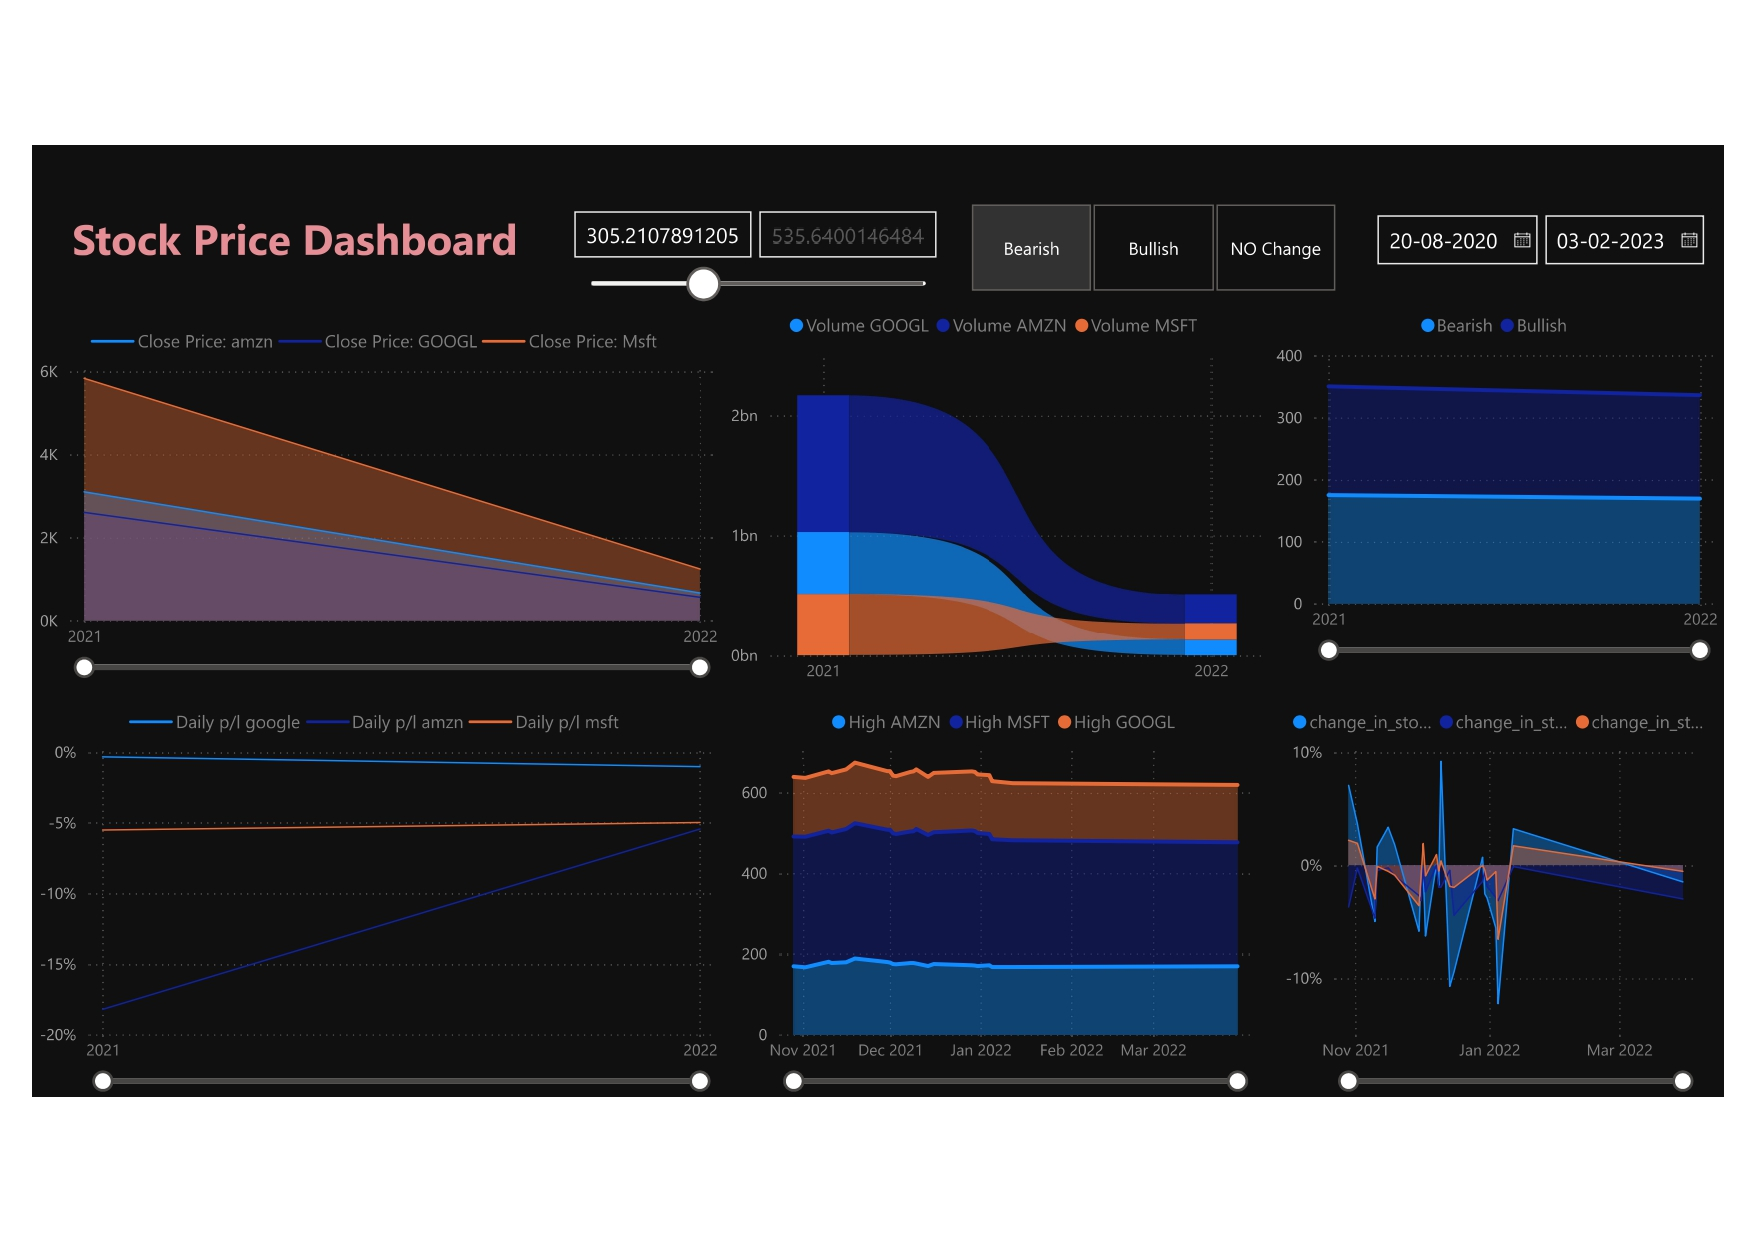

Layout of this report page (visuals, bound fields, positions):
{"tool":"powerbi","page":{"name":"Page 1","canvas":[1280,720],"ordinal":0},"visuals":[{"type":"areaChart","fields":{"Y":["Sum(amzn.Close amzn)","Sum(amzn.Close GOOGL)","Sum(amzn.Close MSFT)"],"Category":["amzn.Date.Variation.Date Hierarchy.Year","amzn.Date.Variation.Date Hierarchy.Month","amzn.Date.Variation.Date Hierarchy.Day"]},"box":[0,127.9,523.3,277.9],"z":0},{"type":"lineChart","fields":{"Y":["Avg(amzn.daily_profit_or_loss_google%)","Sum(amzn.daily_profit_or_loss%)","Sum(amzn.daily_profit_or_loss_msft%)"],"Category":["amzn.Date.Variation.Date Hierarchy.Year","amzn.Date.Variation.Date Hierarchy.Month","amzn.Date.Variation.Date Hierarchy.Day"]},"box":[0,416.3,523.3,302.3],"z":1000},{"type":"ribbonChart","fields":{"Y":["Sum(amzn.Volume GOOGL)","Sum(amzn.Volume AMZN)","Sum(amzn.Volume MSFT)"],"Category":["amzn.Date.Variation.Date Hierarchy.Year","amzn.Date.Variation.Date Hierarchy.Month","amzn.Date.Variation.Date Hierarchy.Day"]},"box":[522.9,115.7,412.9,300],"z":2000},{"type":"stackedAreaChart","fields":{"Category":["amzn.Date"],"Y":["Max(amzn.High AMZN)","Max(amzn.High MSFT)","Max(amzn.High GOOGL)"]},"box":[531.4,416.3,411.6,302.3],"z":3000},{"type":"slicer","fields":{"Values":["amzn.Date"]},"box":[1004.7,43,269.8,72.1],"z":5000},{"type":"slicer","fields":{"Values":["amzn.bullish_bearish1"]},"box":[687.2,39.5,323.3,75.6],"z":6000},{"type":"stackedAreaChart","fields":{"Category":["amzn.Date.Variation.Date Hierarchy.Year","amzn.Date.Variation.Date Hierarchy.Month","amzn.Date.Variation.Date Hierarchy.Day"],"Y":["Avg(amzn.High AMZN)"],"Series":["amzn.bullish_bearish3_msft"]},"box":[935.7,115.7,344.3,277.1],"z":7000},{"type":"areaChart","fields":{"Y":["Sum(amzn.change_in_stock_price_msft)","Sum(amzn.change_in_stock_price)","Sum(amzn.change_in_stock_price_google)"],"Category":["amzn.Date"]},"box":[943,416.3,337.2,302.3],"z":8000},{"type":"slicer","fields":{"Values":["amzn.Close MSFT"]},"box":[396.5,39.5,300,127.9],"z":9000},{"type":"textbox","box":[0,42.9,397.1,60],"z":9001}]}

Visuals, with their boxes in screenshot pixels (x1, y1, x2, y2):
areaChart - Sum(amzn.Close amzn) x Sum(amzn.Close GOOGL): locate(27, 266, 761, 656)
lineChart - Avg(amzn.daily_profit_or_loss_google%) x Sum(amzn.daily_profit_or_loss%): locate(27, 670, 761, 1094)
ribbonChart - Sum(amzn.Volume GOOGL) x Sum(amzn.Volume AMZN): locate(760, 249, 1339, 670)
stackedAreaChart - amzn.Date x Max(amzn.High AMZN): locate(772, 670, 1349, 1094)
slicer - amzn.Date: locate(1436, 147, 1754, 248)
slicer - amzn.bullish_bearish1: locate(991, 142, 1444, 248)
stackedAreaChart - amzn.Date.Variation.Date Hierarchy.Year x amzn.Date.Variation.Date Hierarchy.Month: locate(1339, 249, 1754, 637)
areaChart - Sum(amzn.change_in_stock_price_msft) x Sum(amzn.change_in_stock_price): locate(1349, 670, 1754, 1094)
slicer - amzn.Close MSFT: locate(583, 142, 1004, 322)
textbox: locate(27, 147, 584, 231)
